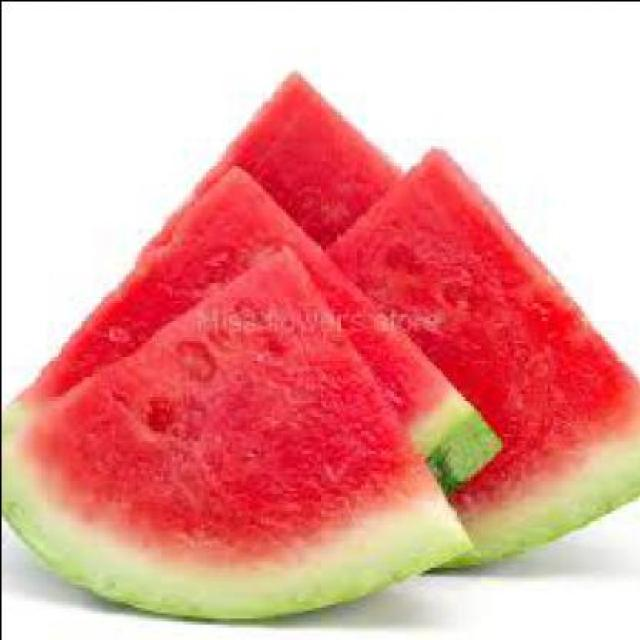BIODEGRADABLE: (0, 248, 470, 618), (2, 169, 505, 496), (326, 150, 640, 570), (148, 74, 399, 246)
